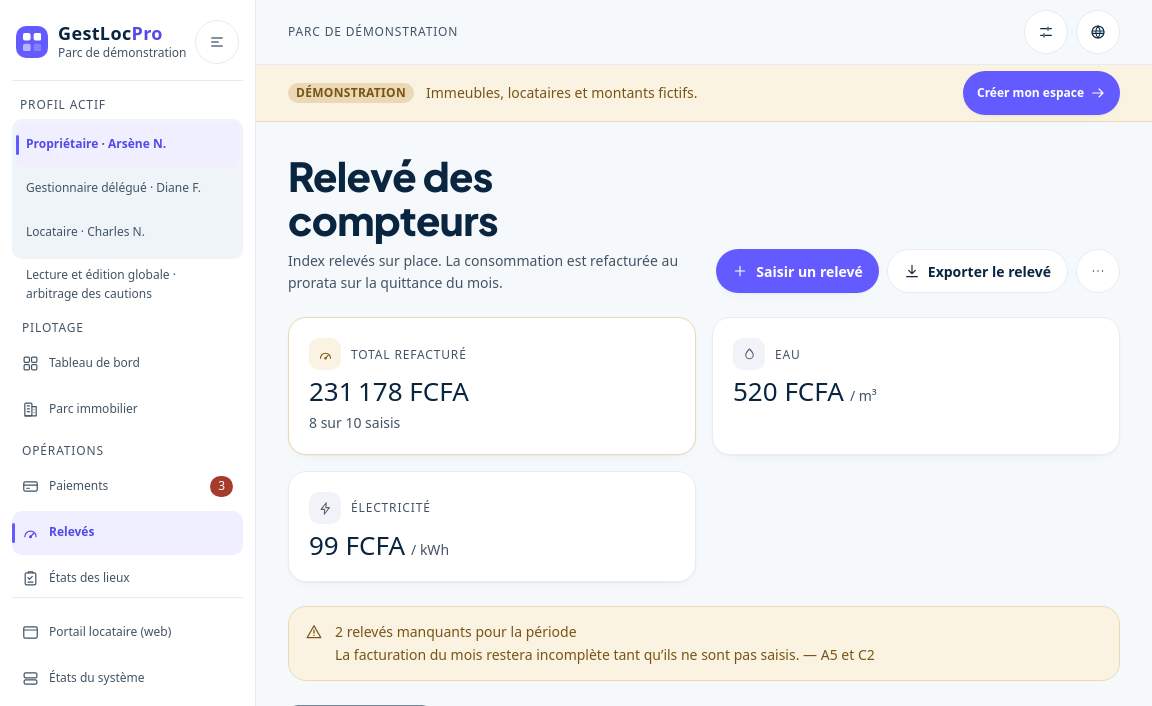
le tableau des prix de refacturation › demande une CONFIRMATION avant de retirer
Click the button named "Autres actions" at (1098, 271), box [1076,249,1120,293]
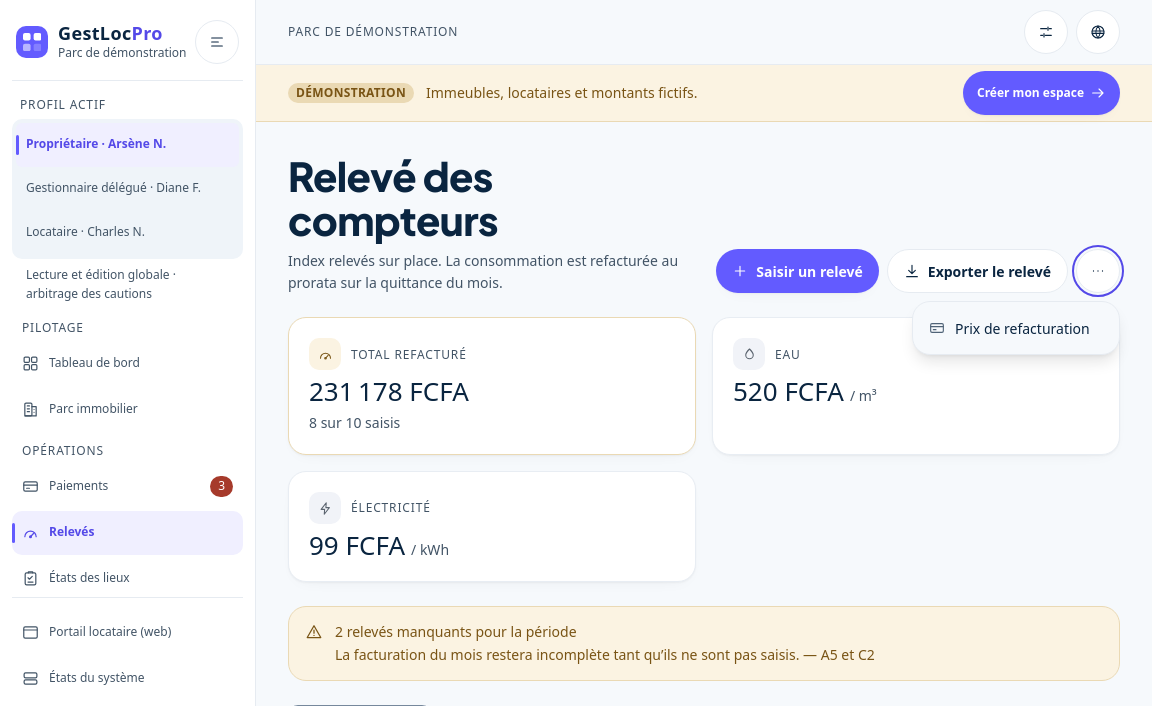
Click the menu item "Prix de refacturation" at (1016, 328), box [917,306,1115,350]
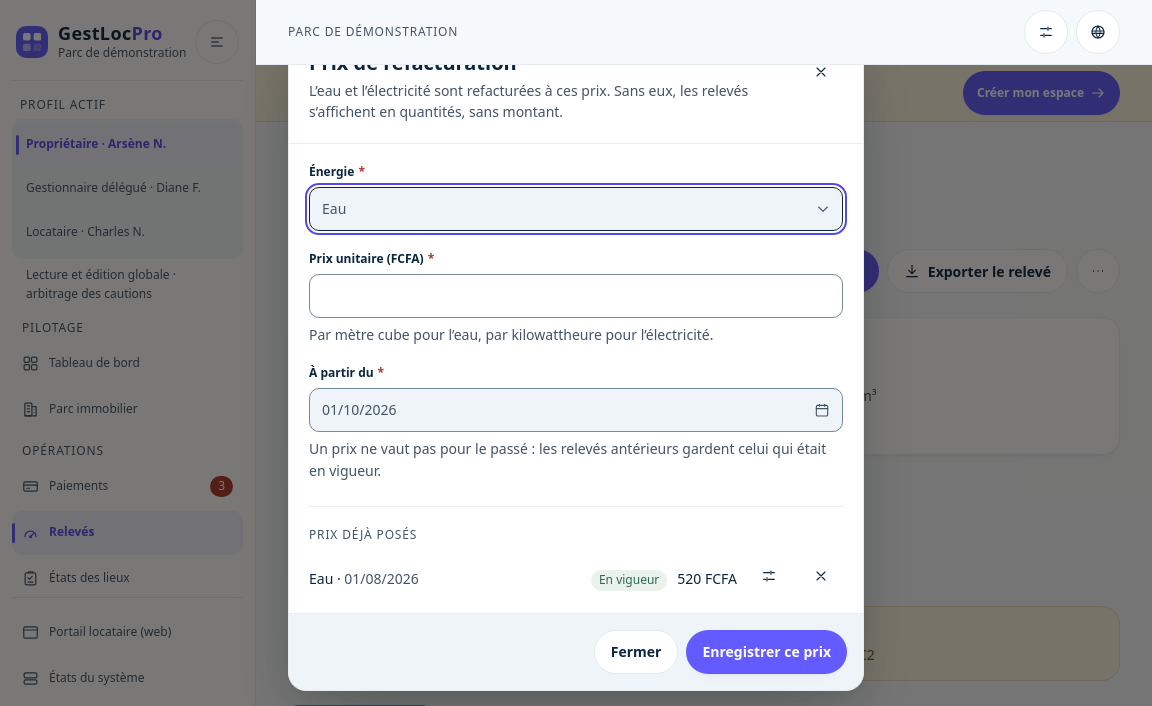
expect the button "Confirmer le retrait" is not shown: met
expect the dialog is shown: met, box [288,29,864,691]
Click the button named "Retirer le prix — " at (821, 576), box [799,554,843,598]
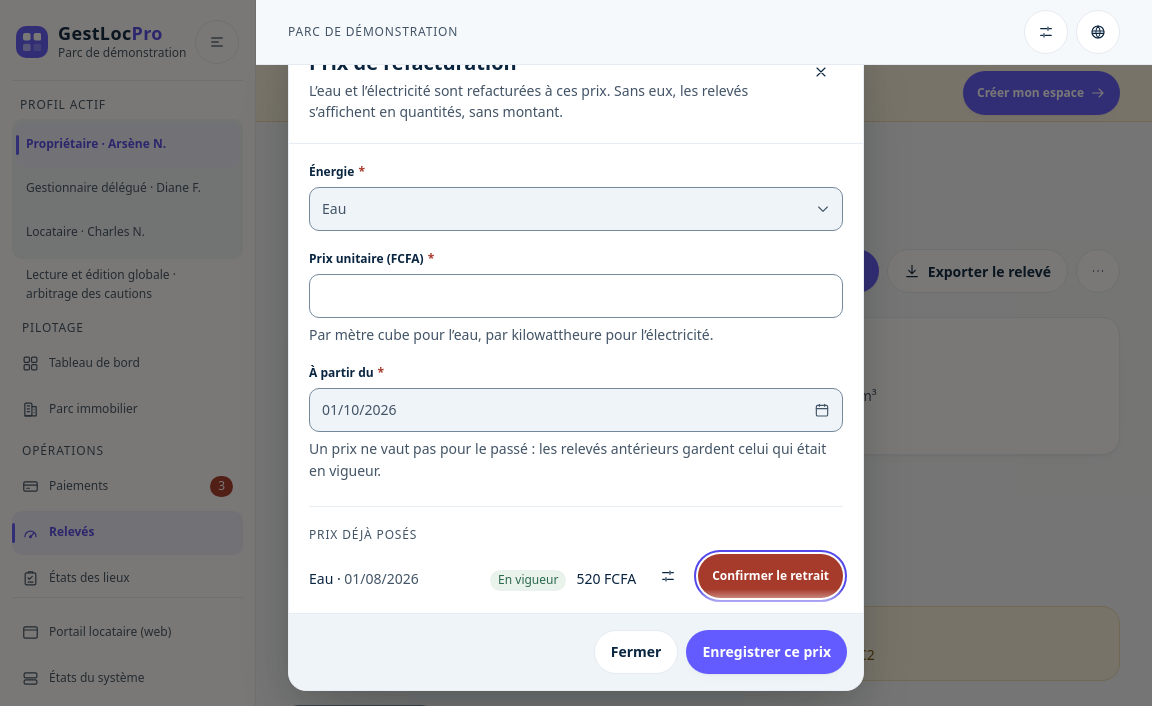
expect the button "Confirmer le retrait" is shown: met, box [698,554,843,598]
